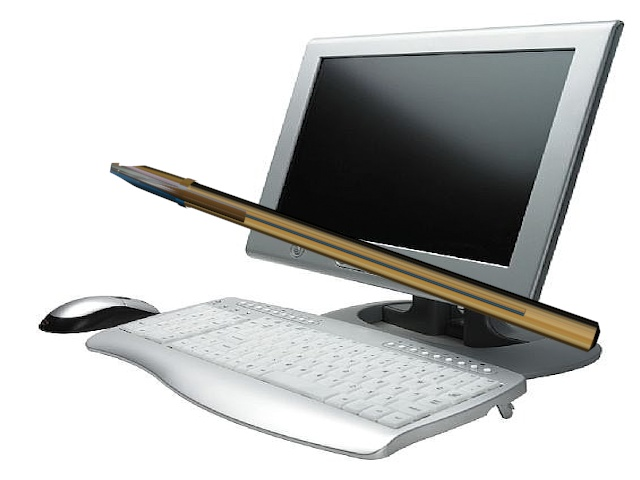pen: (97, 160, 609, 360)
